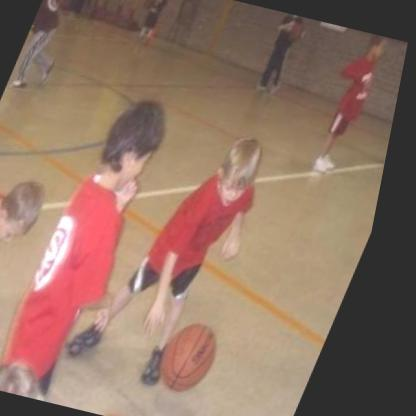basketball: (163, 318, 243, 396), (0, 299, 5, 369)
